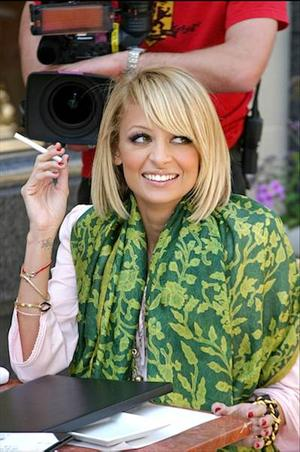person: (8, 67, 299, 450)
